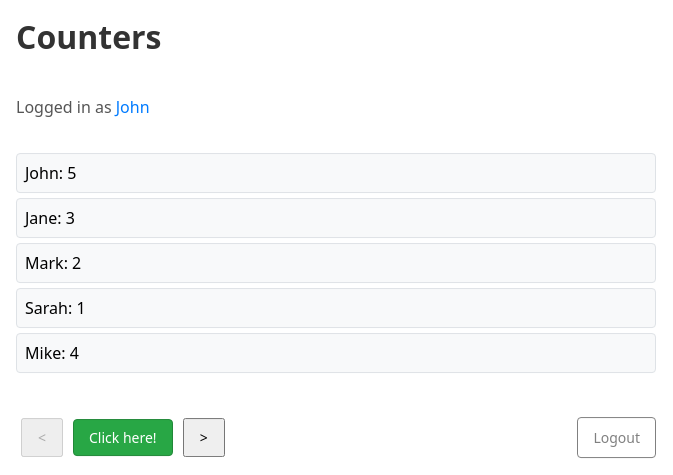
Counter › should handle pagination correctly, displaying the correct counters for each page
Check: the list item "John: 5" is shown, box x1=16 y1=153 x2=656 y2=193
Check: the list item "Jane: 3" is shown, box x1=16 y1=198 x2=656 y2=238
Click the button ">" at {"x": 204, "y": 437}, box x1=183 y1=418 x2=225 y2=457
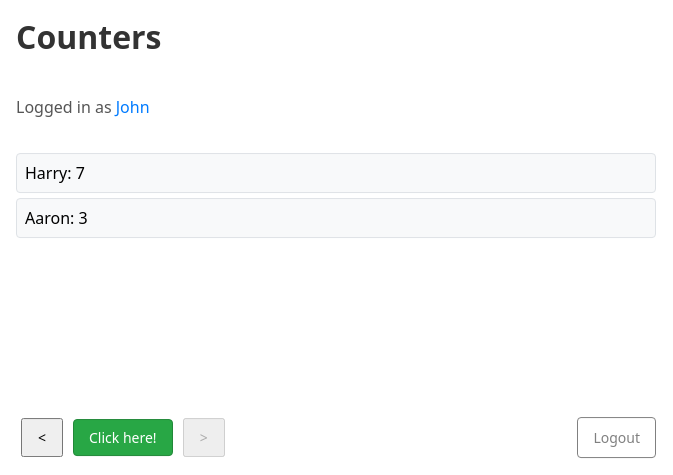
Check: the list item "John: 5" is gone
Check: the list item "Jane: 3" is gone
Check: the list item "Mark: 2" is gone
